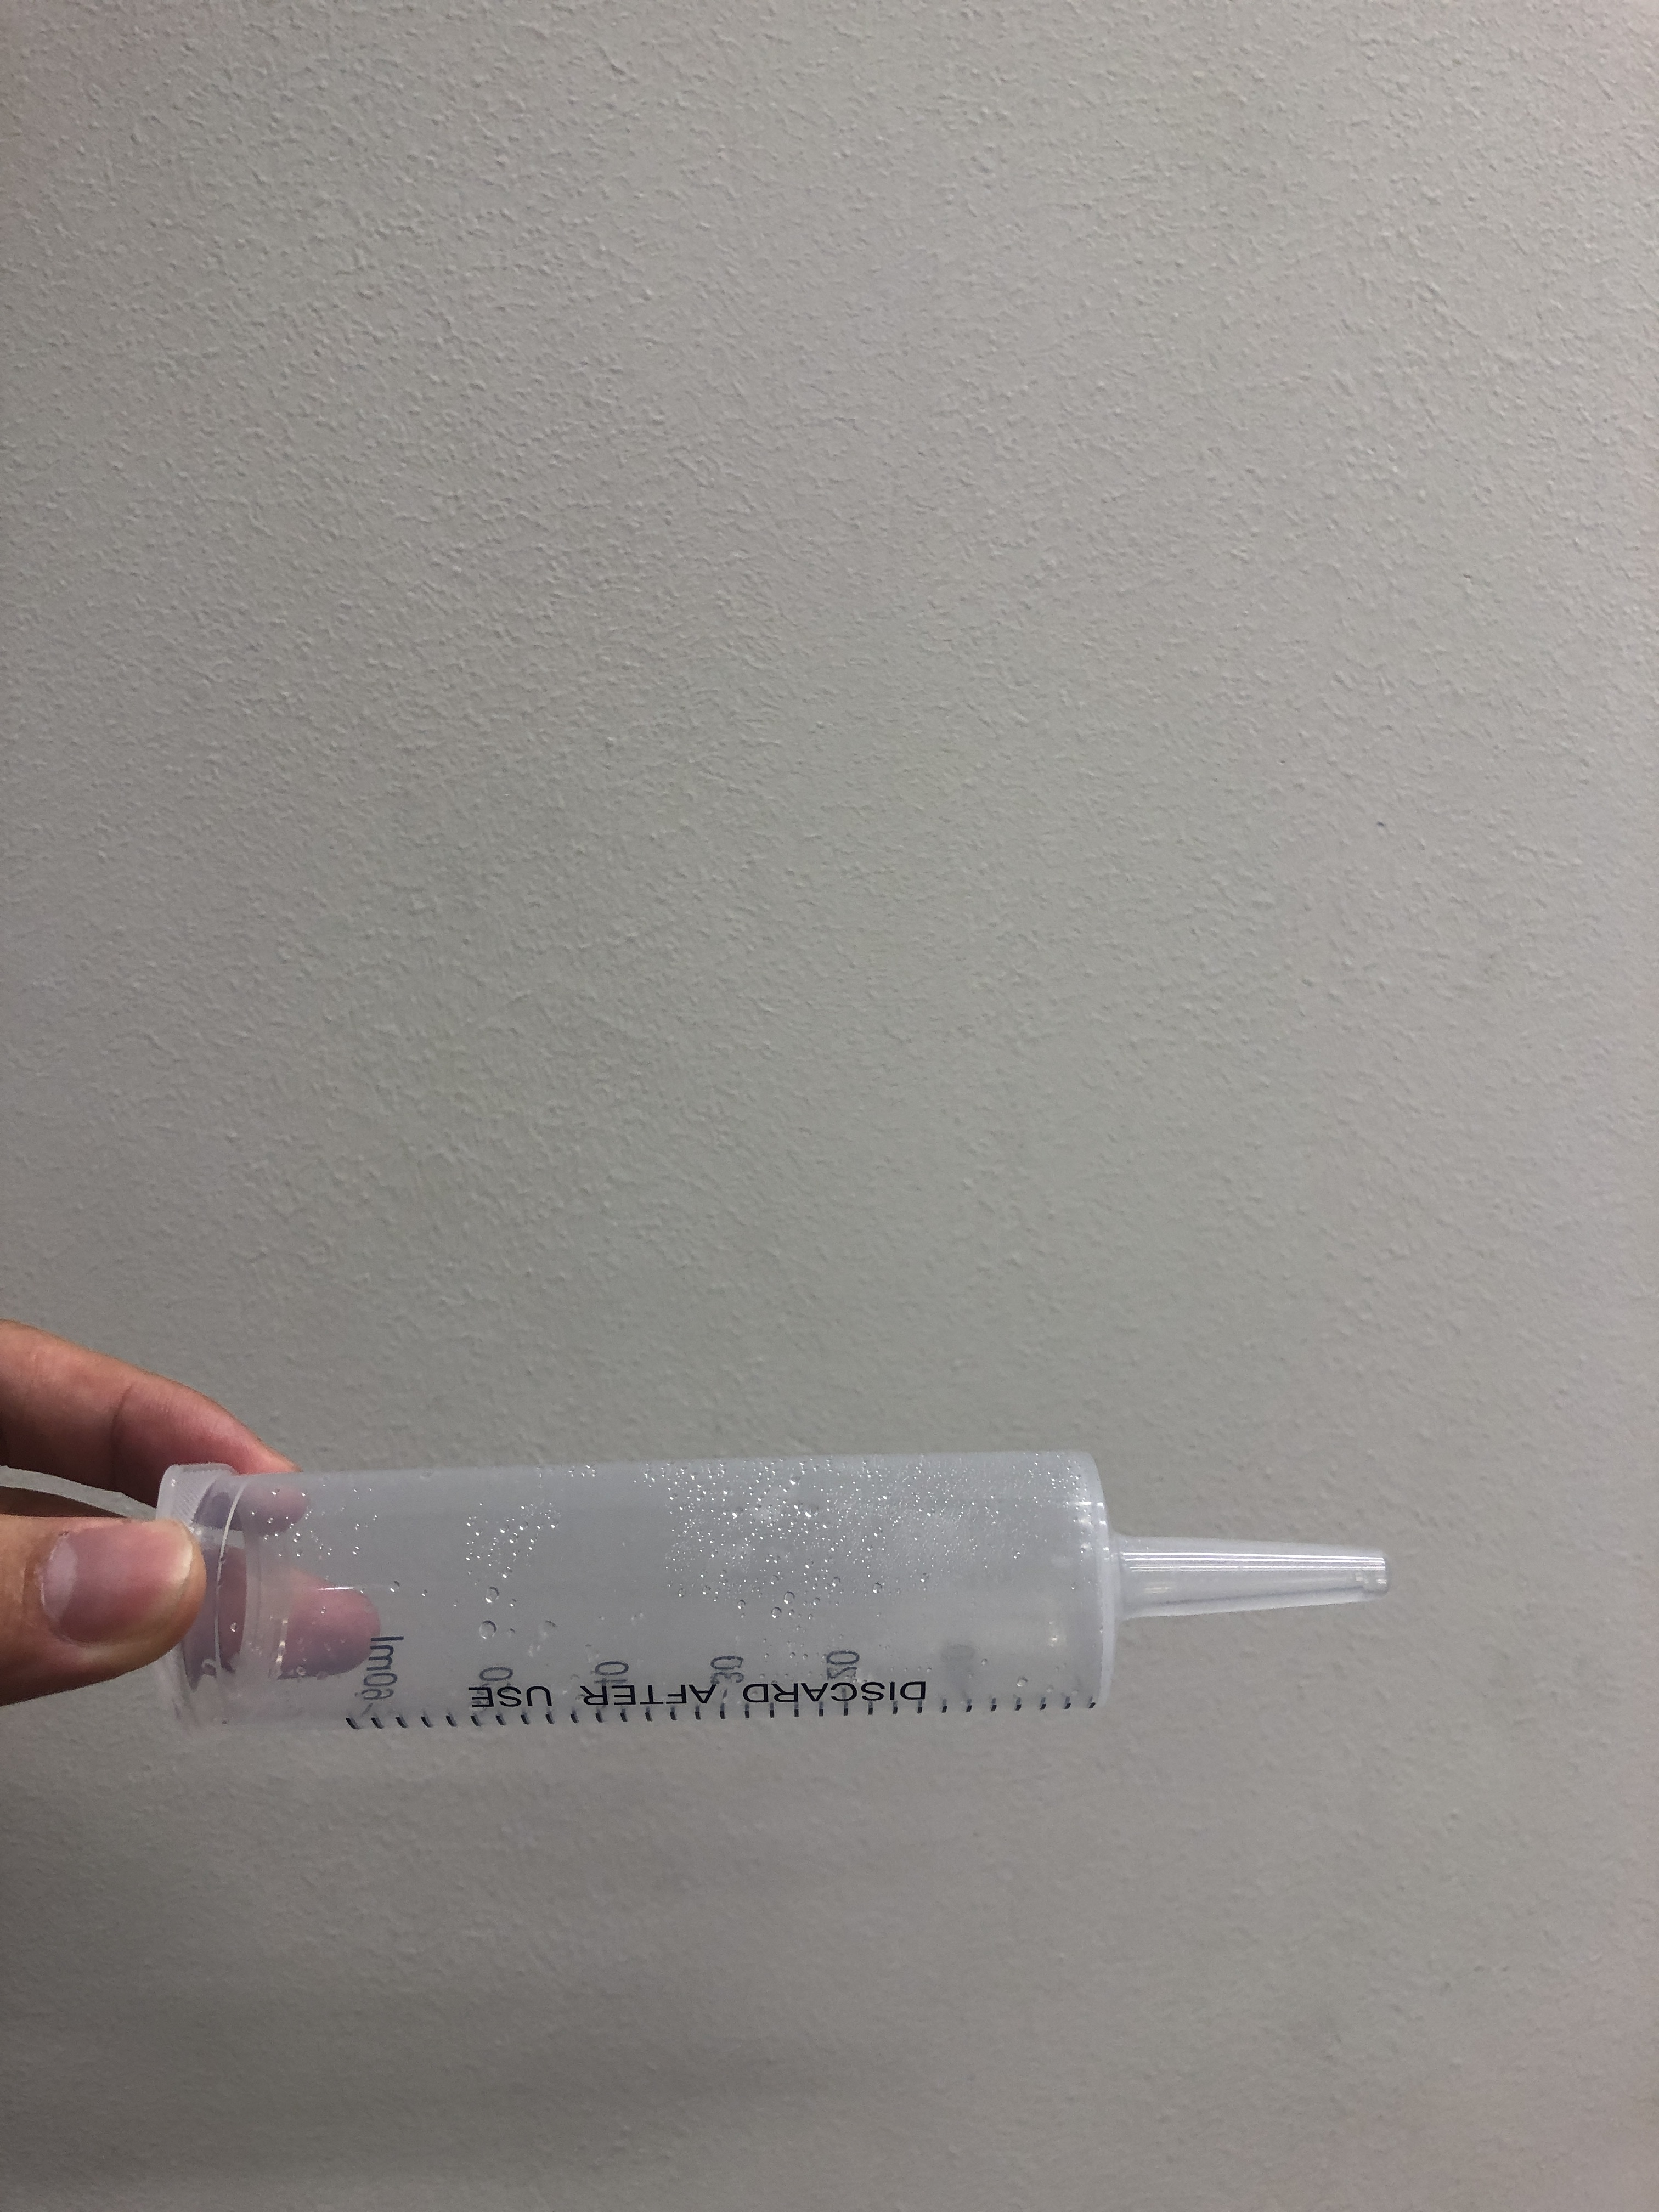syringe: (141, 1440, 1401, 1735)
